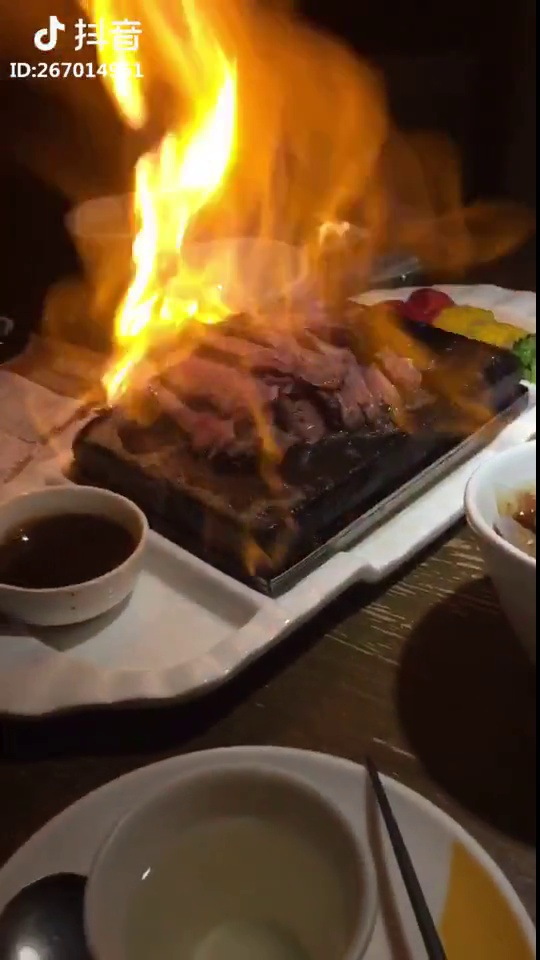fire: (70, 10, 497, 355)
